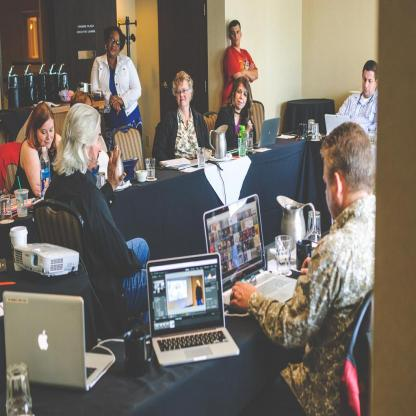board: (3, 291, 116, 390), (140, 250, 232, 366), (204, 193, 298, 306), (253, 118, 280, 147), (40, 145, 51, 199), (325, 116, 349, 137), (239, 126, 248, 158)
